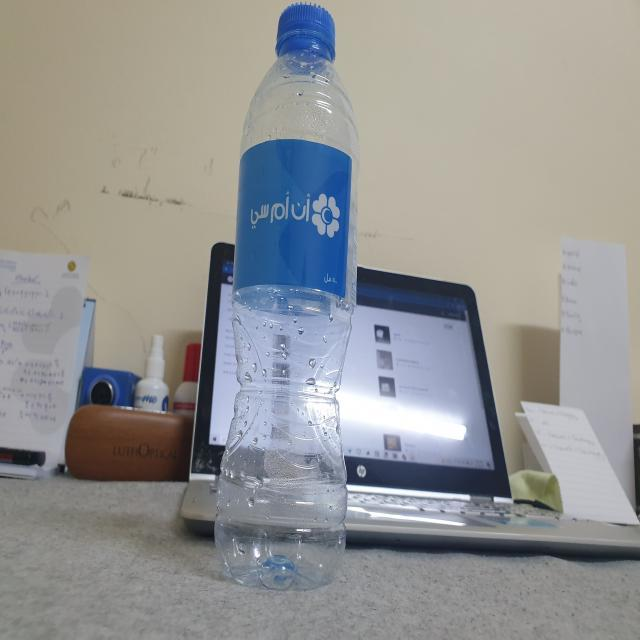plastic: (209, 1, 364, 591)
